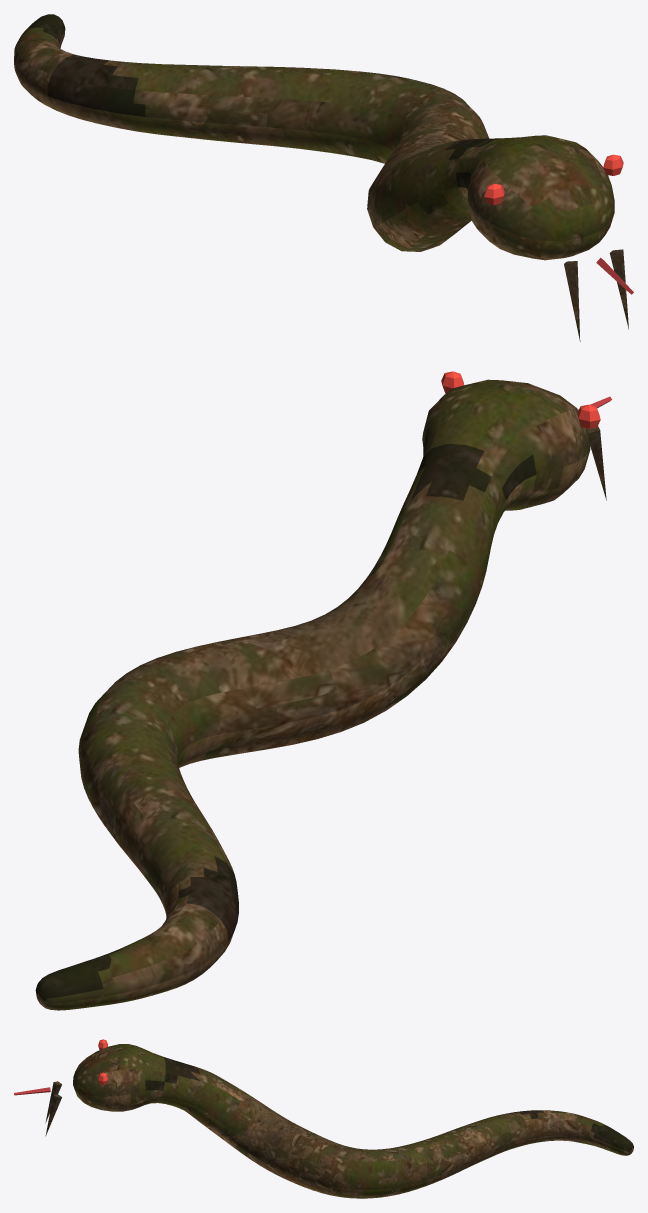
The model's file is mon_serp_01.glb.
3 renders of one model, top to bottom at view 1: azimuth 30°, elevation 25°; view 2: azimuth 150°, elevation 25°; view 3: azimuth 270°, elevation 25°, orthographic. The views are drawn at different scales.
Parts seen in each view (by area): view 1: mon_serp_01; view 2: mon_serp_01; view 3: mon_serp_01.
Boxes of the visible parts, left/top/right/bottom form: mon_serp_01: left=14, top=14, right=633, bottom=341; mon_serp_01: left=35, top=371, right=611, bottom=1010; mon_serp_01: left=14, top=1039, right=633, bottom=1198.
Size of the model in its own units: 0.4719 by 0.3519 by 1.64.
6 materials, 6 textured.
